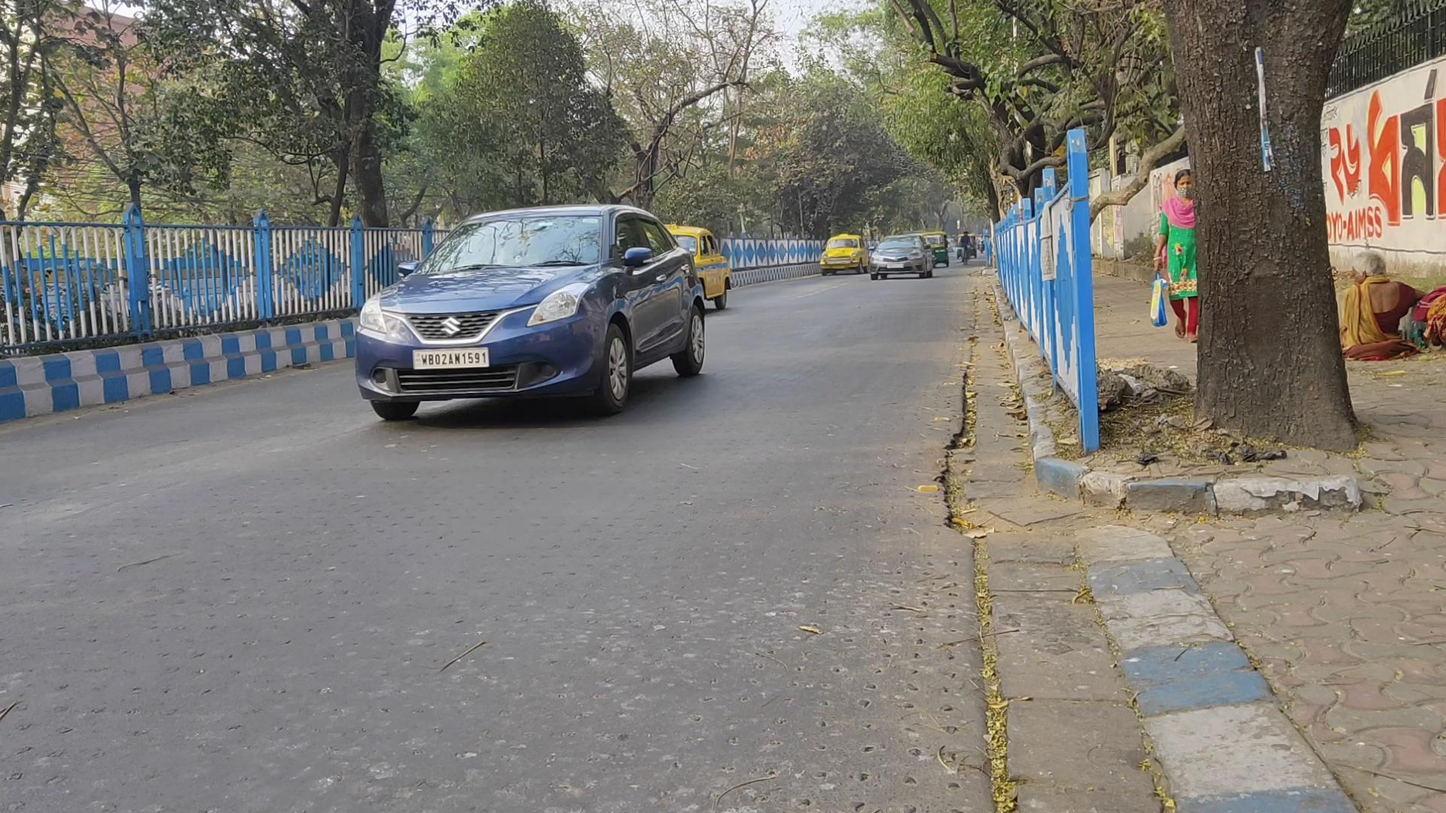Auto: (922, 231, 949, 269)
bike: (959, 231, 972, 266)
car: (352, 202, 706, 420), (660, 220, 734, 311), (869, 233, 935, 285), (819, 233, 871, 278)
